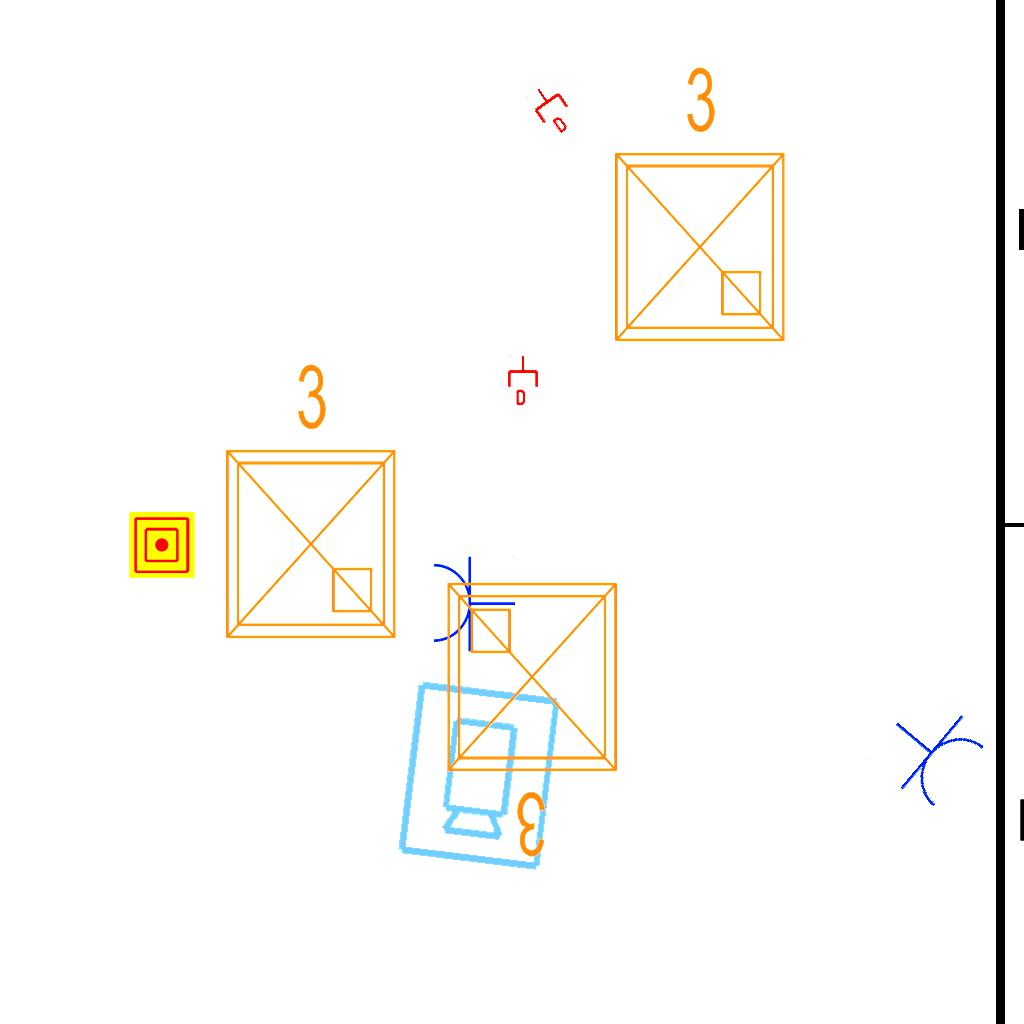Datenanschluss_einfach: (523, 78, 581, 140), (506, 355, 540, 405)
Einbaudownlights_LED_Konferenzraeume: (203, 353, 411, 653), (592, 56, 800, 356), (432, 568, 640, 868)
KFO_Kamera_mit_Festobjektiv: (390, 675, 566, 875)
NAM-Nichtautomatischer_Melder: (129, 512, 195, 578)
Schukosteckdose_einfach: (863, 685, 995, 818), (429, 553, 516, 653)
